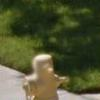Hydrant: (19, 41, 68, 100)
